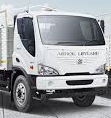truck: (1, 1, 111, 112)
